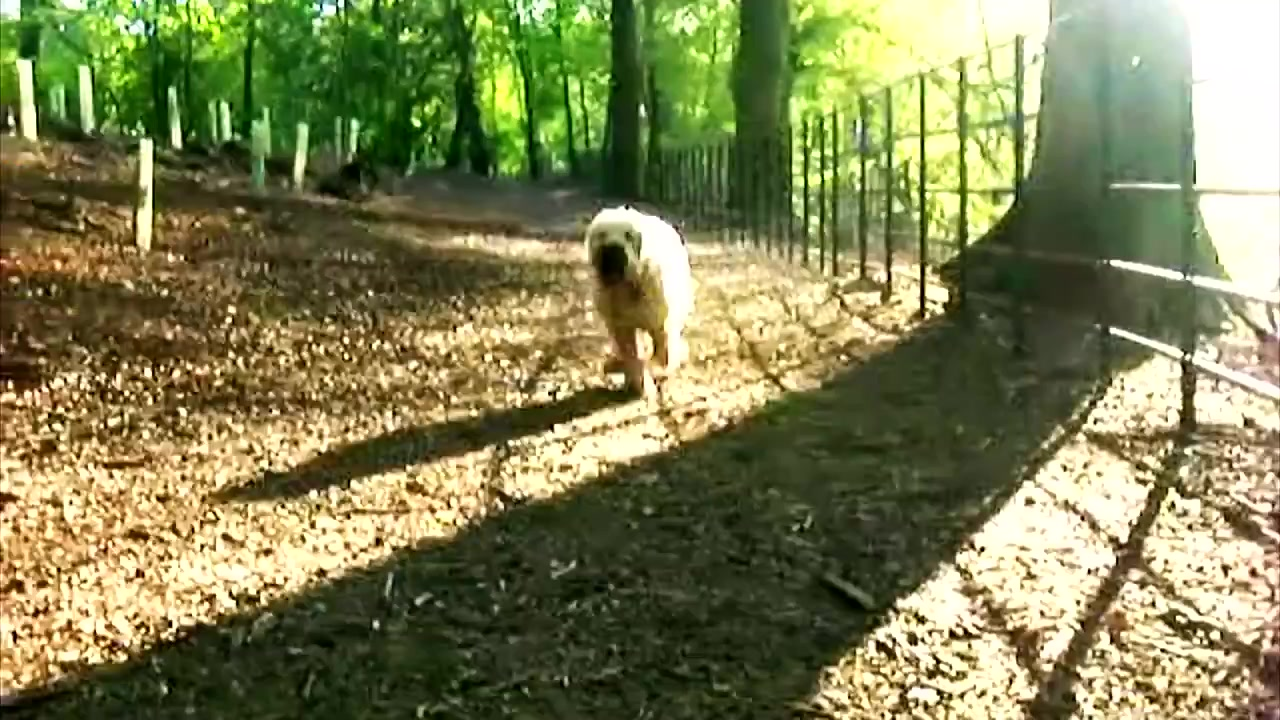dog: (584, 200, 697, 401)
